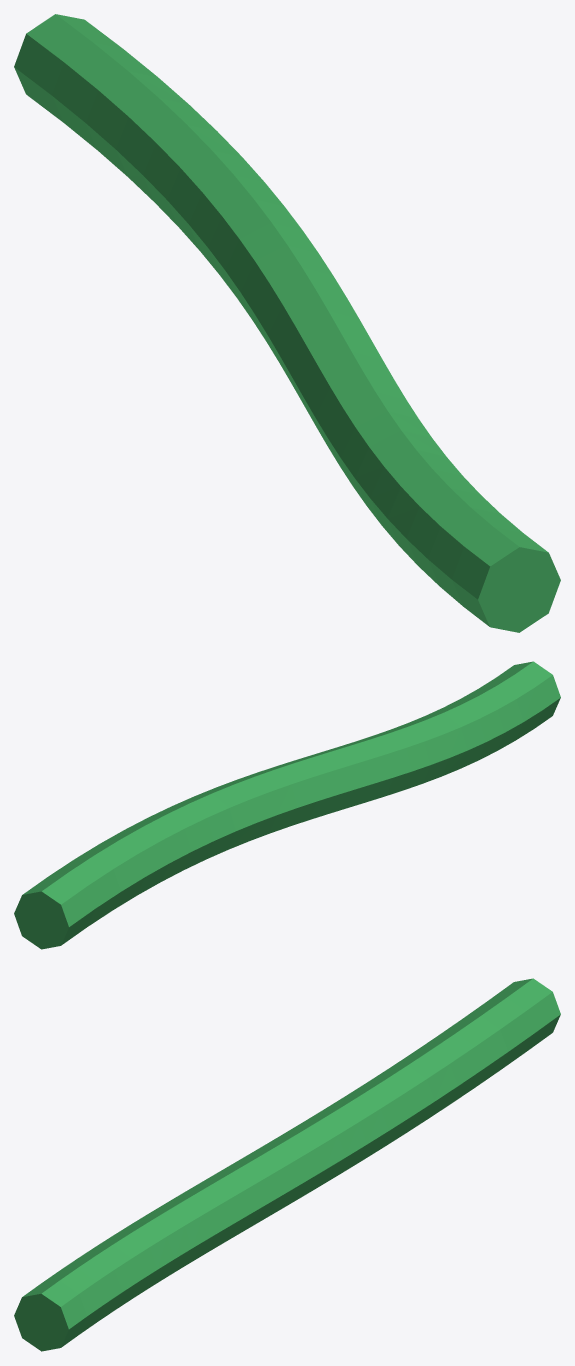
Rendered from motor_green_lead_to_splice_2.glb.
3 renders of one model, top to bottom at view 1: azimuth 30°, elevation 25°; view 2: azimuth 150°, elevation 25°; view 3: azimuth 330°, elevation 25°, orthographic. The views are drawn at different scales.
Parts seen in each view (by area): view 1: motor_green_lead_to_splice_2; view 2: motor_green_lead_to_splice_2; view 3: motor_green_lead_to_splice_2.
Part boxes in pixels (box(x1,y1,x2,y2)): motor_green_lead_to_splice_2: box(14, 14, 560, 632); motor_green_lead_to_splice_2: box(14, 661, 560, 949); motor_green_lead_to_splice_2: box(14, 978, 560, 1351).
Size of the model in its own units: 4.45 by 2.95 by 21.39.
